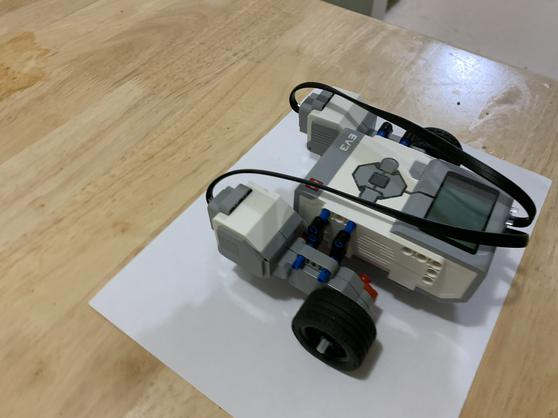robot: (187, 69, 547, 377)
